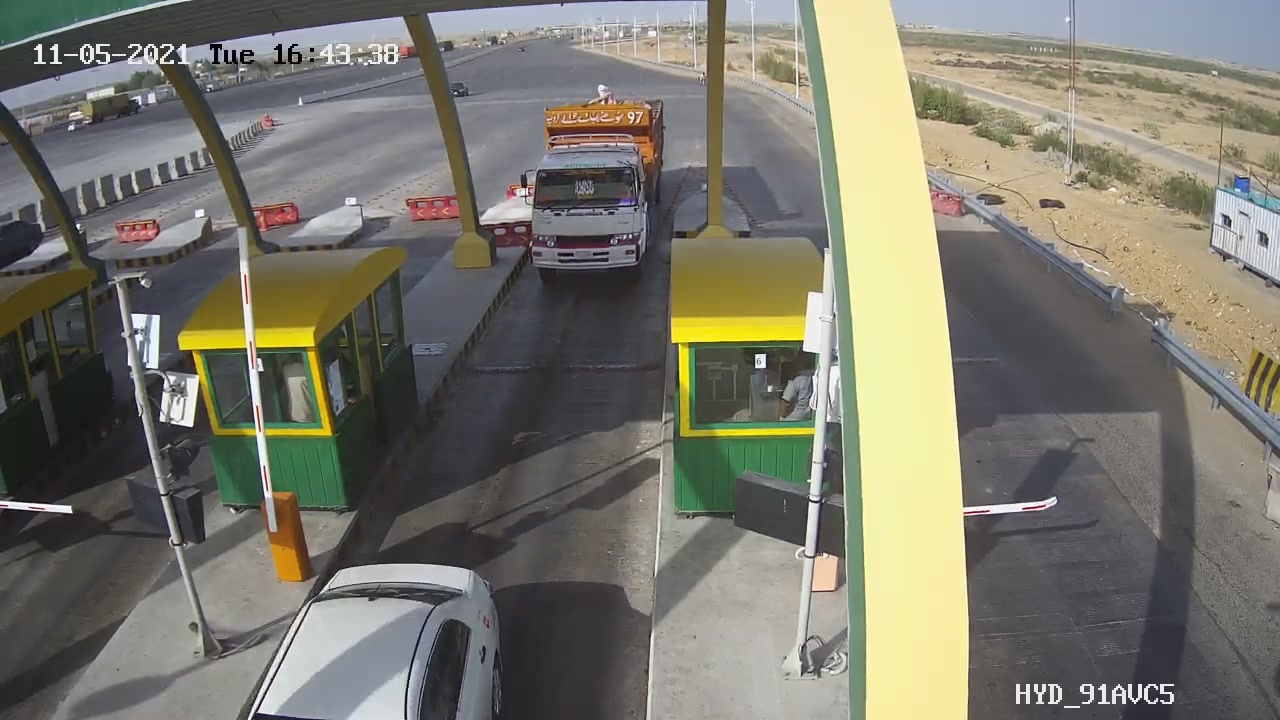F6: (505, 76, 685, 297)
